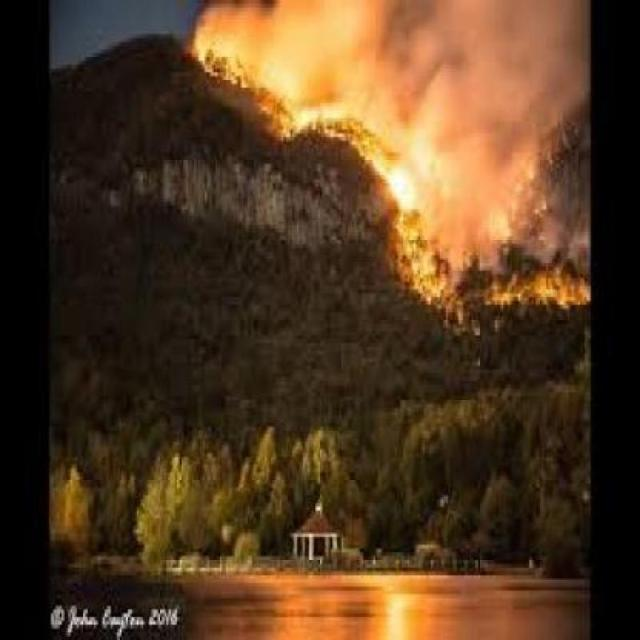Fire: (190, 15, 592, 337)
